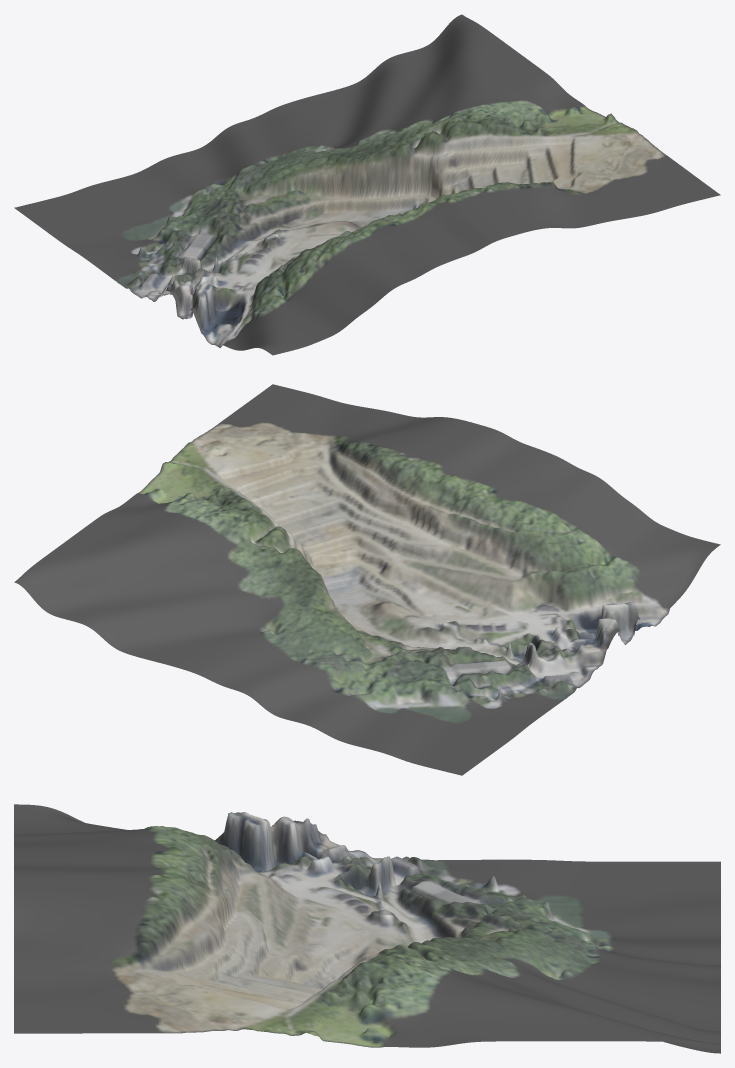
Rendered from terrain.glb.
3 views of the same model, one above another, from view 1: azimuth 30°, elevation 25°; view 2: azimuth 150°, elevation 25°; view 3: azimuth 270°, elevation 25° (orthographic). The views are drawn at different scales.
Visible parts, largest first — view 1: geometry_0; view 2: geometry_0; view 3: geometry_0.
Boxes of the visible parts, x1,y1,x2,y2 form: geometry_0: [14, 14, 720, 355]; geometry_0: [14, 384, 720, 775]; geometry_0: [14, 804, 720, 1053].
Size of the model in its own units: 725 by 162 by 725.
